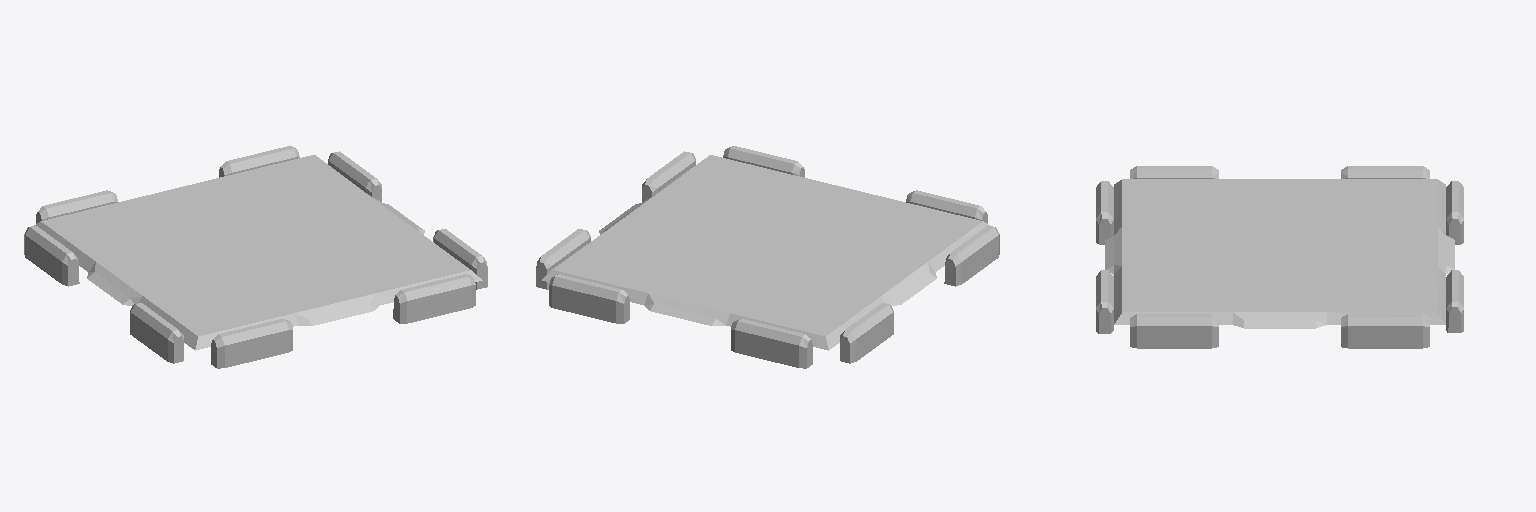
Rendered from Component_No_Stand.obj.
3 views of the same model, side by side, from view 1: azimuth 30°, elevation 25°; view 2: azimuth 150°, elevation 25°; view 3: azimuth 270°, elevation 25° (orthographic).
Parts seen in each view (by area): view 1: ModelComponent; view 2: ModelComponent; view 3: ModelComponent.
Part boxes in pixels (bbox=[...]): ModelComponent: bbox=[24, 146, 487, 368]; ModelComponent: bbox=[536, 146, 999, 368]; ModelComponent: bbox=[1096, 166, 1463, 348].
Size of the model in its own units: 2 by 0.1761 by 2.